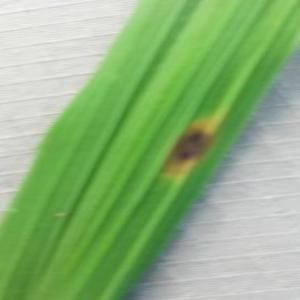Brown_Spot: (154, 113, 228, 185)
